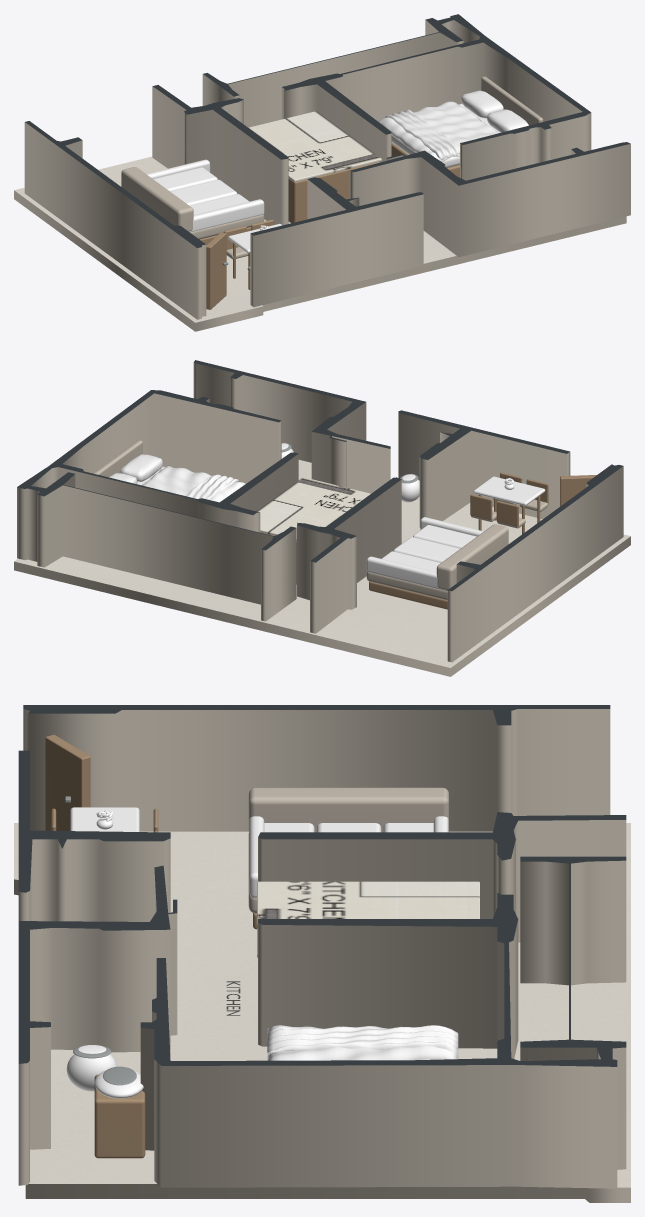
File: carina-vega-unit-05.glb
3 renders of one model, top to bottom at view 1: azimuth 30°, elevation 25°; view 2: azimuth 150°, elevation 25°; view 3: azimuth 270°, elevation 25°, orthographic. The views are drawn at different scales.
Parts seen in each view (by area): view 1: Partition walls, Apartment floor, Stone worktop, Draped bed linen, Sofa back, Kitchen cabinets, Open oak door, Draped bed linen.001, Padded armrest, Seat cushion.001, Upholstered headboard, Seat cushion.002 (+6 smaller); view 2: Partition walls, Apartment floor, Stone worktop, Sofa back, Draped bed linen, Padded armrest.001, Marble dining top, Seat cushion.001, Seat cushion, Upholstered sofa frame, Tailored pillow, Sofa plinth (+7 smaller); view 3: Partition walls, Apartment floor, Stone worktop, Sofa back, Draped bed linen.001, Open oak door, Vanity cabinet, Draped bed linen, Marble dining top, Vitreous china bowl, Padded armrest, Ceramic basin.
Boxes of the visible parts, x1=… form: Partition walls: x1=24, y1=14, x2=630, y2=319; Apartment floor: x1=14, y1=156, x2=626, y2=331; Stone worktop: x1=248, y1=111, x2=381, y2=182; Draped bed linen: x1=378, y1=101, x2=498, y2=161; Sofa back: x1=121, y1=167, x2=193, y2=231; Kitchen cabinets: x1=288, y1=161, x2=380, y2=223; Open oak door: x1=206, y1=232, x2=226, y2=309; Draped bed linen.001: x1=384, y1=109, x2=459, y2=159; Padded armrest: x1=189, y1=199, x2=264, y2=232; Seat cushion.001: x1=170, y1=179, x2=237, y2=205; Upholstered headboard: x1=481, y1=76, x2=543, y2=125; Seat cushion.002: x1=153, y1=167, x2=217, y2=191; Partition walls: x1=17, y1=360, x2=623, y2=662; Apartment floor: x1=14, y1=460, x2=630, y2=676; Stone worktop: x1=257, y1=477, x2=370, y2=540; Sofa back: x1=436, y1=524, x2=508, y2=589; Draped bed linen: x1=142, y1=465, x2=245, y2=502; Padded armrest.001: x1=366, y1=556, x2=447, y2=590; Marble dining top: x1=473, y1=476, x2=545, y2=505; Seat cushion.001: x1=393, y1=537, x2=459, y2=562; Seat cushion: x1=413, y1=525, x2=476, y2=548; Upholstered sofa frame: x1=366, y1=571, x2=447, y2=600; Tailored pillow: x1=120, y1=454, x2=162, y2=481; Sofa plinth: x1=369, y1=581, x2=447, y2=609; Partition walls: x1=18, y1=705, x2=626, y2=1188; Apartment floor: x1=14, y1=823, x2=630, y2=1202; Stone worktop: x1=257, y1=881, x2=479, y2=957; Sofa back: x1=248, y1=787, x2=448, y2=832; Draped bed linen.001: x1=267, y1=1025, x2=458, y2=1057; Open oak door: x1=45, y1=734, x2=90, y2=830; Vanity cabinet: x1=94, y1=1074, x2=145, y2=1158; Draped bed linen: x1=267, y1=1025, x2=457, y2=1060; Marble dining top: x1=70, y1=807, x2=139, y2=831; Vitreous china bowl: x1=66, y1=1054, x2=117, y2=1091; Padded armrest: x1=249, y1=816, x2=264, y2=897; Ceramic basin: x1=94, y1=1070, x2=143, y2=1098.
Size of the model in its own units: 8.25 by 1.44 by 5.88.
12 materials, 2 textured.
